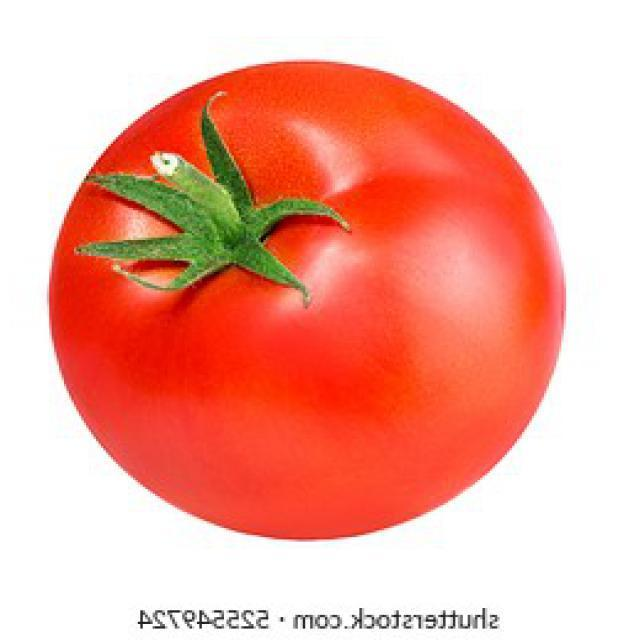Tomato: (77, 123, 353, 306)
